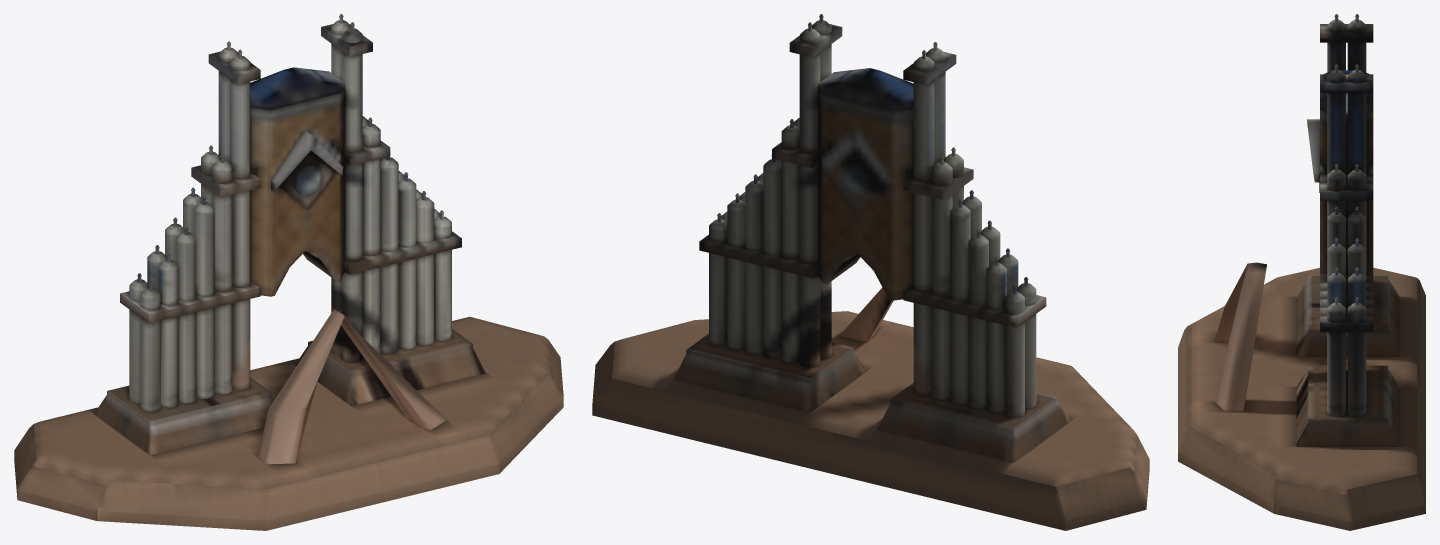
File: Khaen.glb
3 views of the same model, side by side, from view 1: azimuth 30°, elevation 25°; view 2: azimuth 150°, elevation 25°; view 3: azimuth 270°, elevation 25° (orthographic). The views are drawn at different scales.
Parts seen in each view (by area): view 1: Object_4; view 2: Object_4; view 3: Object_4.
Boxes of the visible parts, left/top/right/bottom form: Object_4: left=14, top=14, right=563, bottom=530; Object_4: left=592, top=14, right=1149, bottom=530; Object_4: left=1178, top=14, right=1425, bottom=530.
Size of the model in its own units: 70.85 by 50.22 by 30.51.
1 material, 1 textured.
